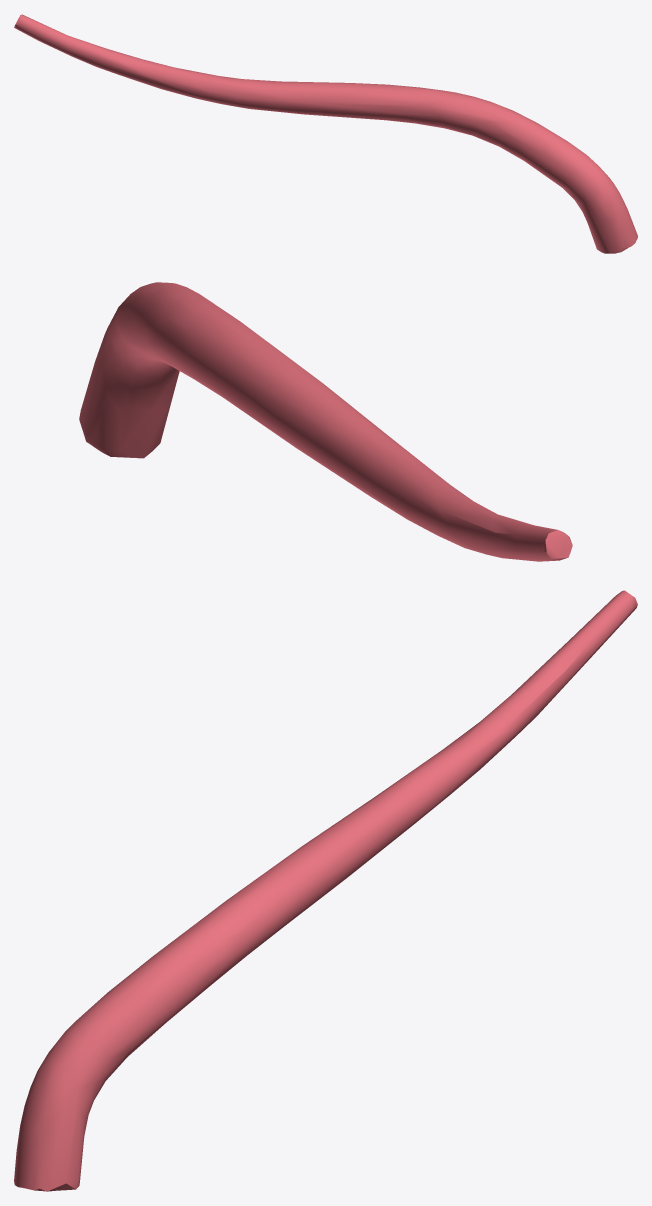
Rendered from fma68673_fj2970.glb.
3 views of the same model, one above another, from view 1: azimuth 30°, elevation 25°; view 2: azimuth 150°, elevation 25°; view 3: azimuth 270°, elevation 25° (orthographic). The views are drawn at different scales.
Visible parts, largest first — view 1: FMA68673_FJ2970; view 2: FMA68673_FJ2970; view 3: FMA68673_FJ2970.
Boxes of the visible parts, bbox=[...] form: FMA68673_FJ2970: bbox=[14, 14, 637, 253]; FMA68673_FJ2970: bbox=[79, 282, 572, 561]; FMA68673_FJ2970: bbox=[14, 590, 637, 1191].
Bounding box in the file's own units: 0.0574 × 0.0247 × 0.0467.
